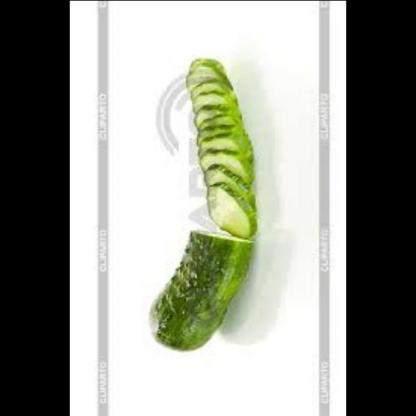cucumber: (145, 232, 257, 352), (188, 48, 261, 230)
